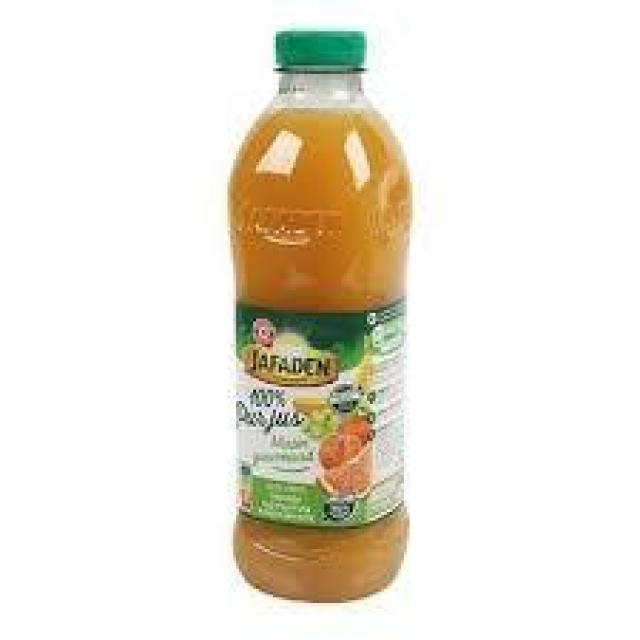inorganic: (228, 28, 412, 606)
